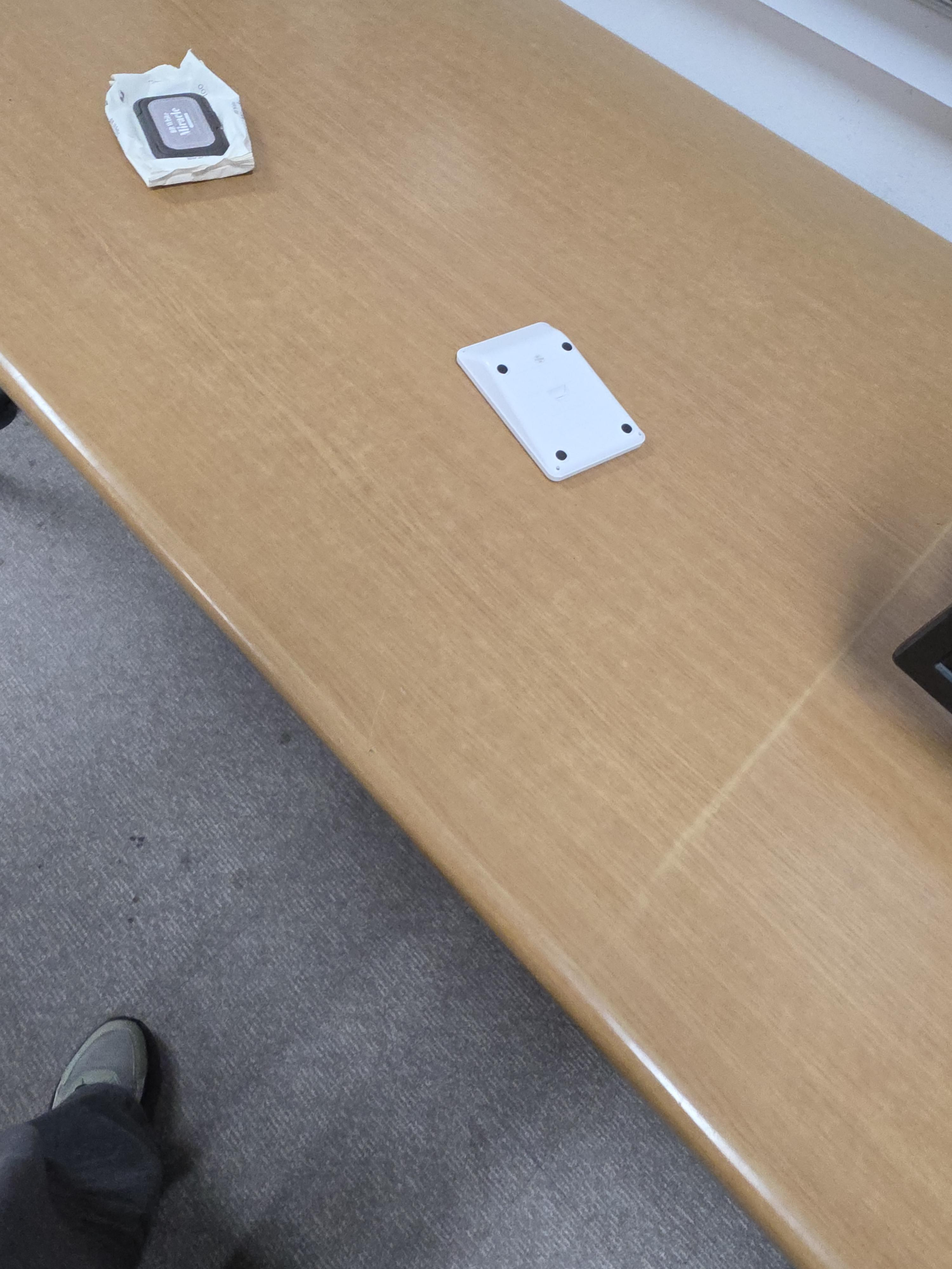calculator: (456, 322, 646, 482)
tissue: (105, 48, 255, 188)
